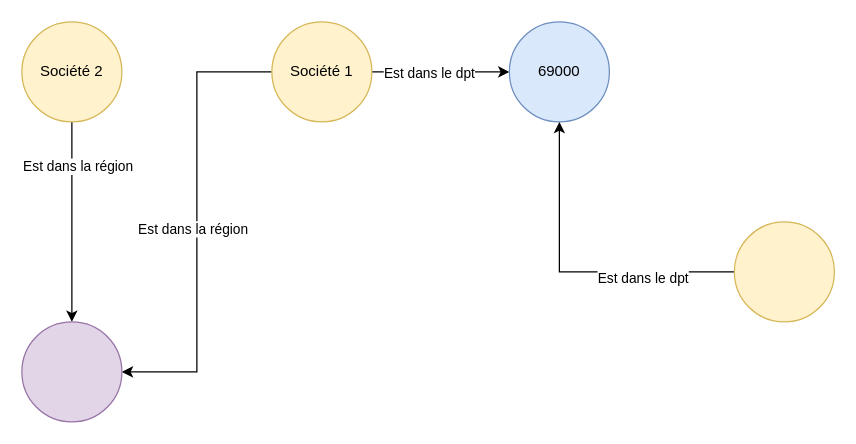
Some shapes in this 856 by 444 pixel diagram are drawn without their labels. The centre of each missing label's shape, as x and y in pixels:
Auvergne rhones alpes: pixel 71 371
Société 3: pixel 783 271
